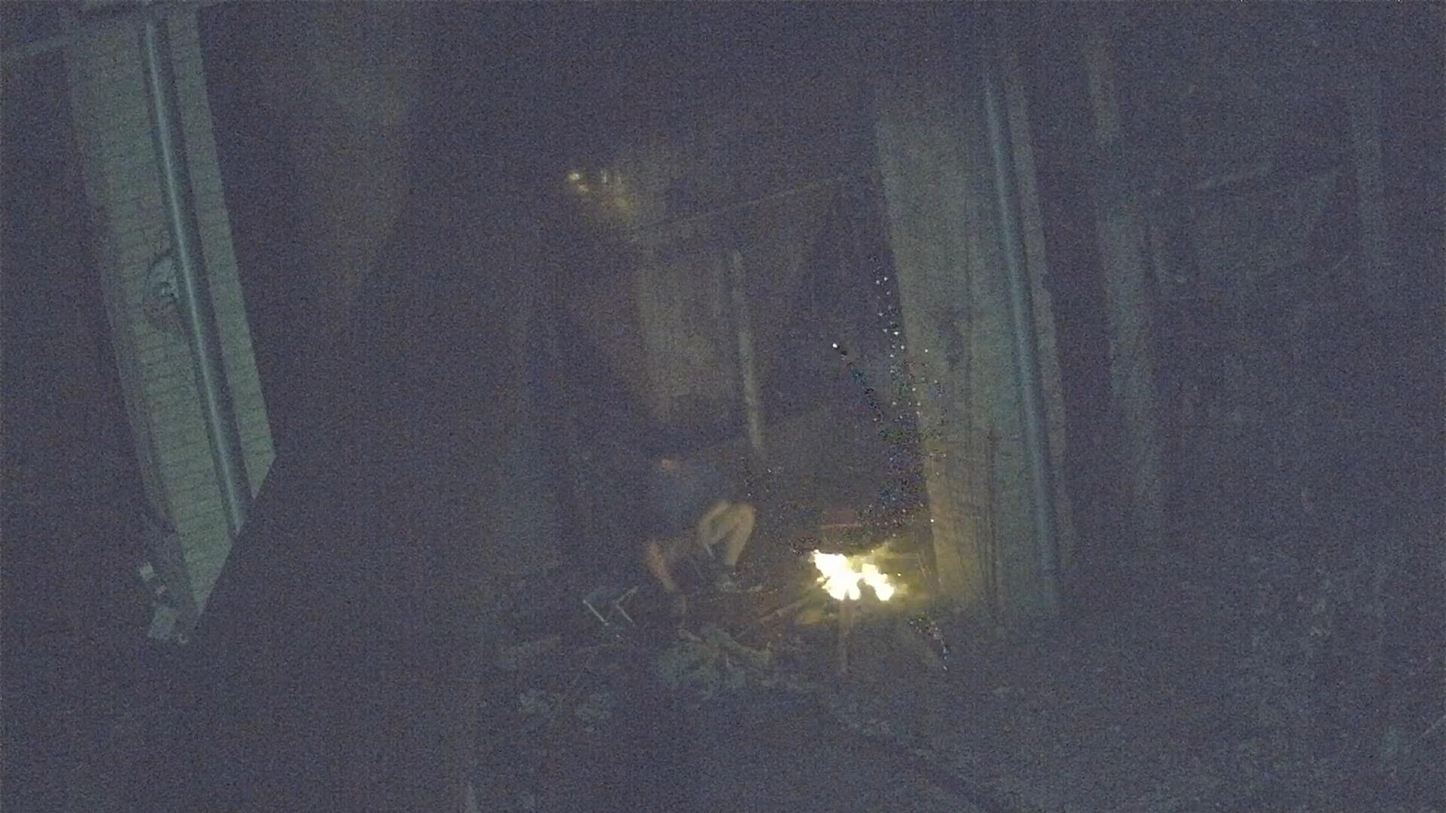fire: (813, 553, 896, 601)
